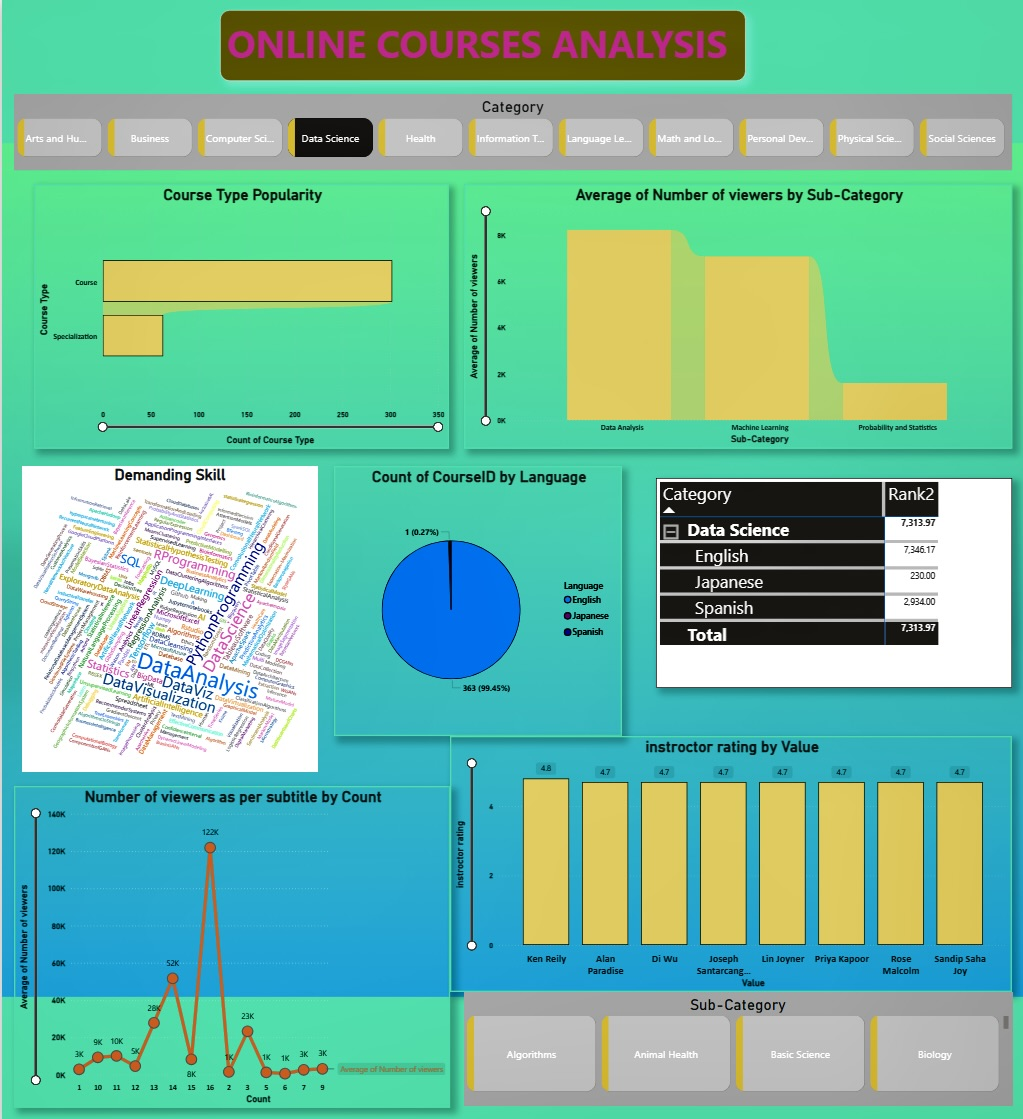

What the dashboard file says about the page in this screenshot:
{"tool":"powerbi","page":{"name":"Page 1","canvas":[1600,1800],"ordinal":0},"visuals":[{"type":"textbox","box":[339.1,17.4,821.7,110.9],"z":0},{"type":"advancedSlicerVisual","fields":{"Values":["Online_Courses.Category"]},"box":[18.9,148.6,1559.5,118.9],"z":1000},{"type":"barChart","title":"Course Type Popularity","fields":{"Y":["CountNonNull(Online_Courses.Course Type)"],"Category":["Online_Courses.Course Type"]},"box":[48.6,291.9,648.6,413.5],"z":2000},{"type":"columnChart","fields":{"Category":["Online_Courses.Sub-Category","Online_Courses.Language"],"Y":["Avg(Online_Courses.Number of viewers)"]},"box":[721.6,291.9,856.8,413.5],"z":3000},{"type":"WordCloud1447959067750","title":"Demanding Skill","fields":{"Category":["Online_Courses.Skills"]},"box":[31.2,731.2,462.5,478.1],"z":4000},{"type":"pieChart","fields":{"Category":["Online_Courses.Language"],"Y":["CountNonNull(Online_Courses.CourseID)"]},"box":[518.8,731.2,450,421.9],"z":5000},{"type":"pivotTable","fields":{"Rows":["Online_Courses.Category","Online_Courses.Language"],"Values":["Online_Courses.Rank2"]},"box":[1021.9,750,556.2,328.1],"z":5001},{"type":"lineChart","title":" Number of viewers as per subtitle by Count","fields":{"Category":["Online_Courses.Count"],"Y":["Avg(Online_Courses.Number of viewers)"]},"box":[18.8,1231.2,681.2,503.1],"z":5002},{"type":"clusteredColumnChart","fields":{"Category":["Online_Courses (2).Value"],"Y":["Online_Courses (2).instroctor rating"]},"box":[700,1153.1,878.1,400],"z":5003},{"type":"advancedSlicerVisual","fields":{"Values":["Online_Courses (2).Sub-Category"]},"box":[721.9,1553.1,856.2,178.1],"z":5004}]}

Visuals, with their boxes in screenshot pixels (x1, y1, x2, y2), scaled from the page's 1600x1800 canvas onto the 1023x1119 screenshot:
textbox: {"left": 217, "top": 11, "right": 742, "bottom": 80}
advancedSlicerVisual - Online_Courses.Category: {"left": 12, "top": 92, "right": 1009, "bottom": 166}
"Course Type Popularity" barChart: {"left": 31, "top": 181, "right": 446, "bottom": 439}
columnChart - Online_Courses.Sub-Category x Online_Courses.Language: {"left": 461, "top": 181, "right": 1009, "bottom": 439}
"Demanding Skill" WordCloud1447959067750: {"left": 20, "top": 455, "right": 316, "bottom": 752}
pieChart - Online_Courses.Language x CountNonNull(Online_Courses.CourseID): {"left": 332, "top": 455, "right": 619, "bottom": 717}
pivotTable - Online_Courses.Category x Online_Courses.Language: {"left": 653, "top": 466, "right": 1009, "bottom": 670}
" Number of viewers as per subtitle by Count" lineChart: {"left": 12, "top": 765, "right": 448, "bottom": 1078}
clusteredColumnChart - Online_Courses (2).Value x Online_Courses (2).instroctor rating: {"left": 448, "top": 717, "right": 1009, "bottom": 966}
advancedSlicerVisual - Online_Courses (2).Sub-Category: {"left": 462, "top": 966, "right": 1009, "bottom": 1076}
